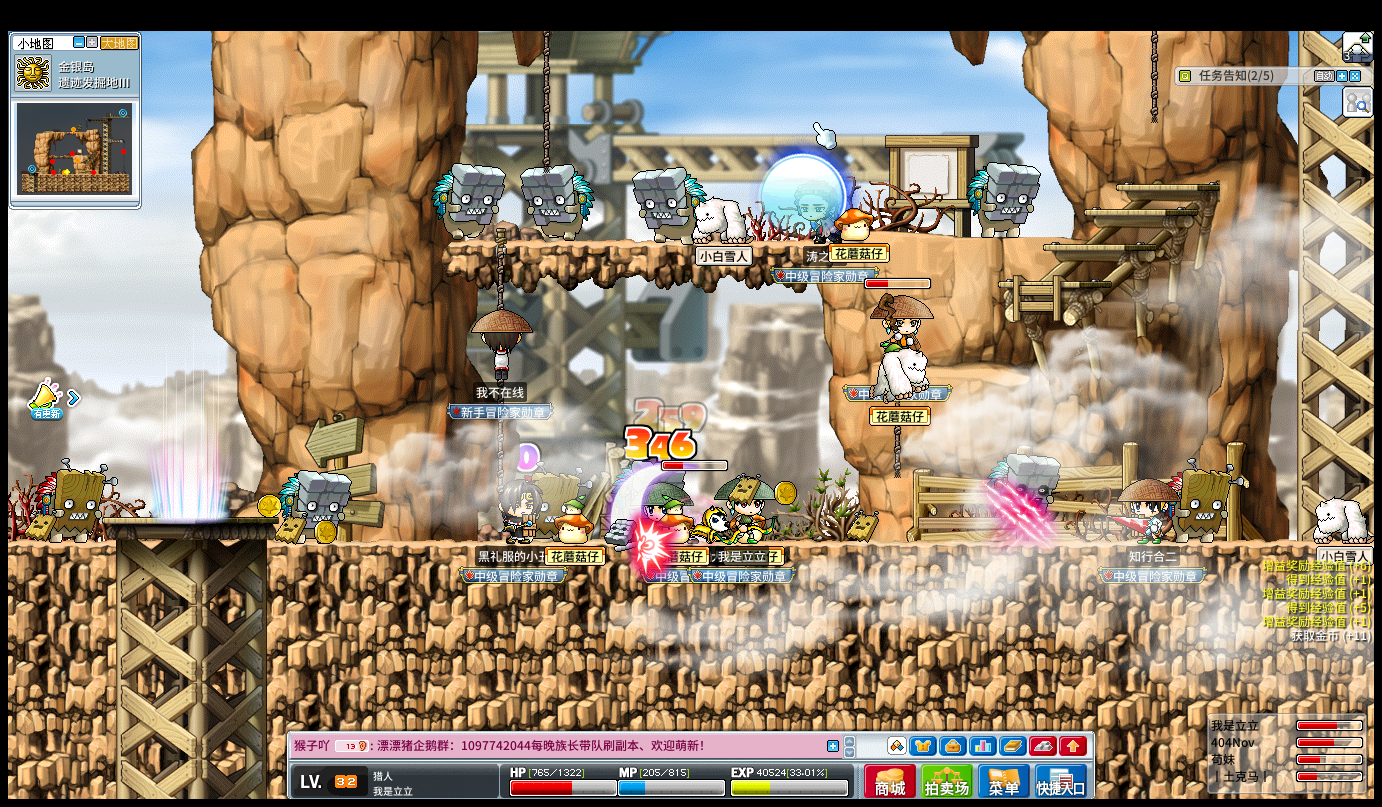floor: (267, 538, 1372, 551), (450, 237, 834, 251), (880, 234, 1081, 244), (933, 363, 1031, 381), (107, 516, 280, 526), (8, 539, 115, 551), (997, 279, 1111, 288), (1080, 207, 1193, 216), (1041, 243, 1158, 251), (1116, 184, 1220, 192)
monster: (34, 461, 117, 542), (1168, 461, 1247, 542), (430, 163, 505, 241), (966, 162, 1041, 238), (519, 164, 593, 241), (631, 167, 704, 243), (988, 453, 1061, 527), (280, 470, 351, 543)
rope: (542, 30, 551, 170), (492, 231, 507, 310), (1148, 30, 1157, 124)
